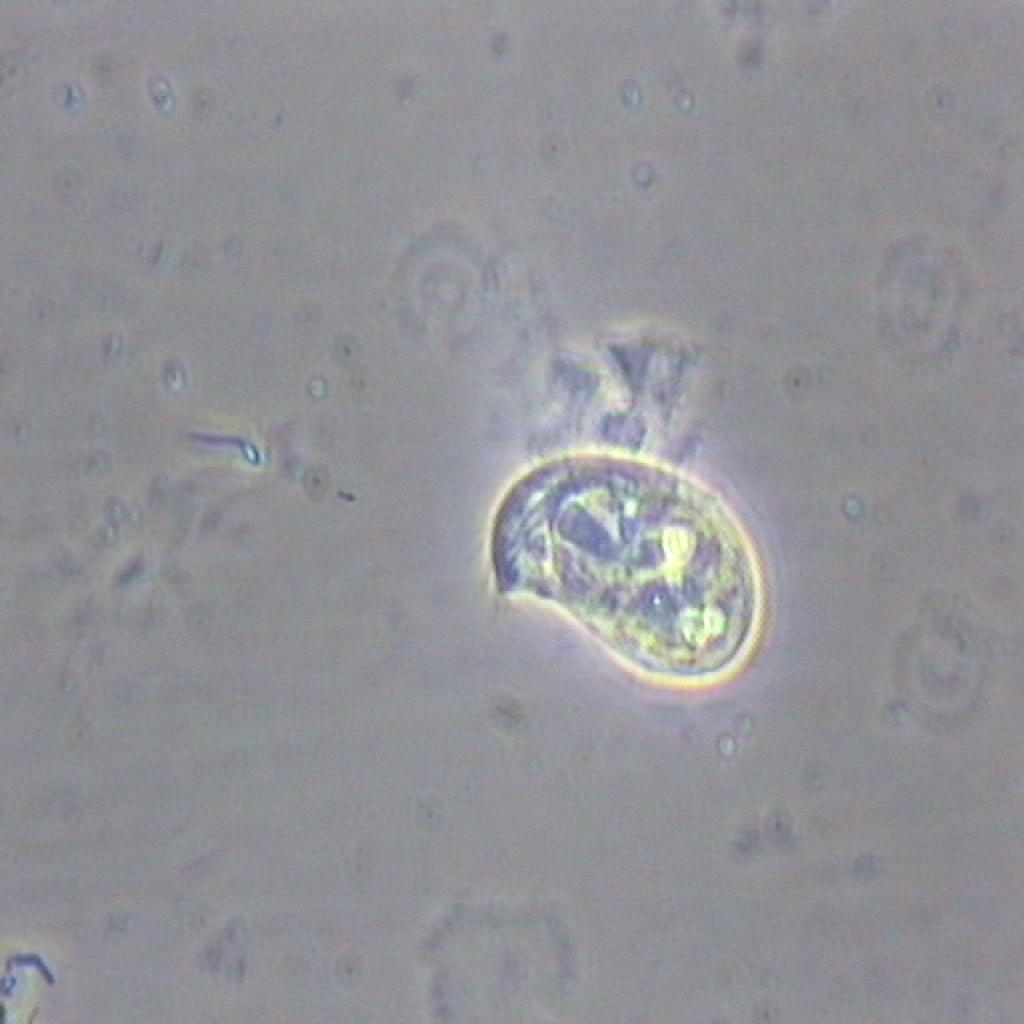Chilodonella: (464, 383, 768, 718)
